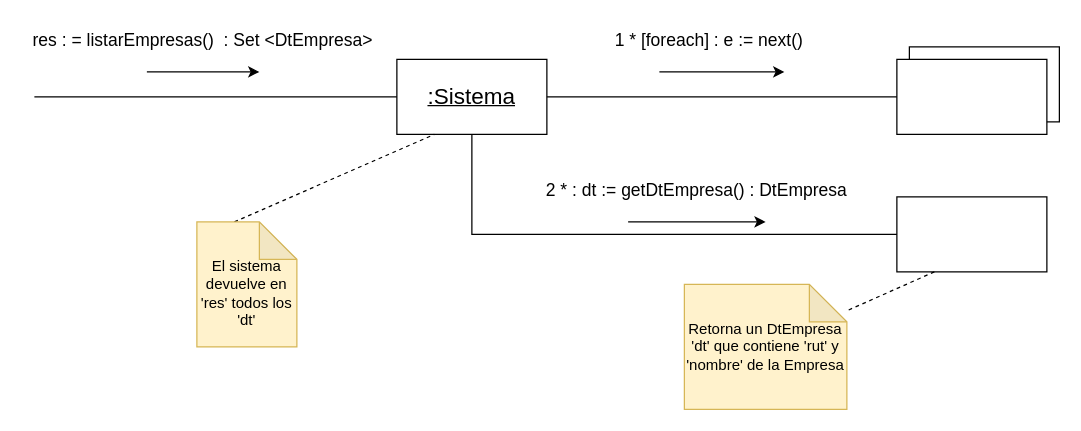
Image size: 1081x431. Some labels were removed from this diagram. Here are the shapes that lost their labels. From the top down, the centre of each, then its label:
At point 971,96: ":Empresa".
At point 971,234: "e:Empresa".
